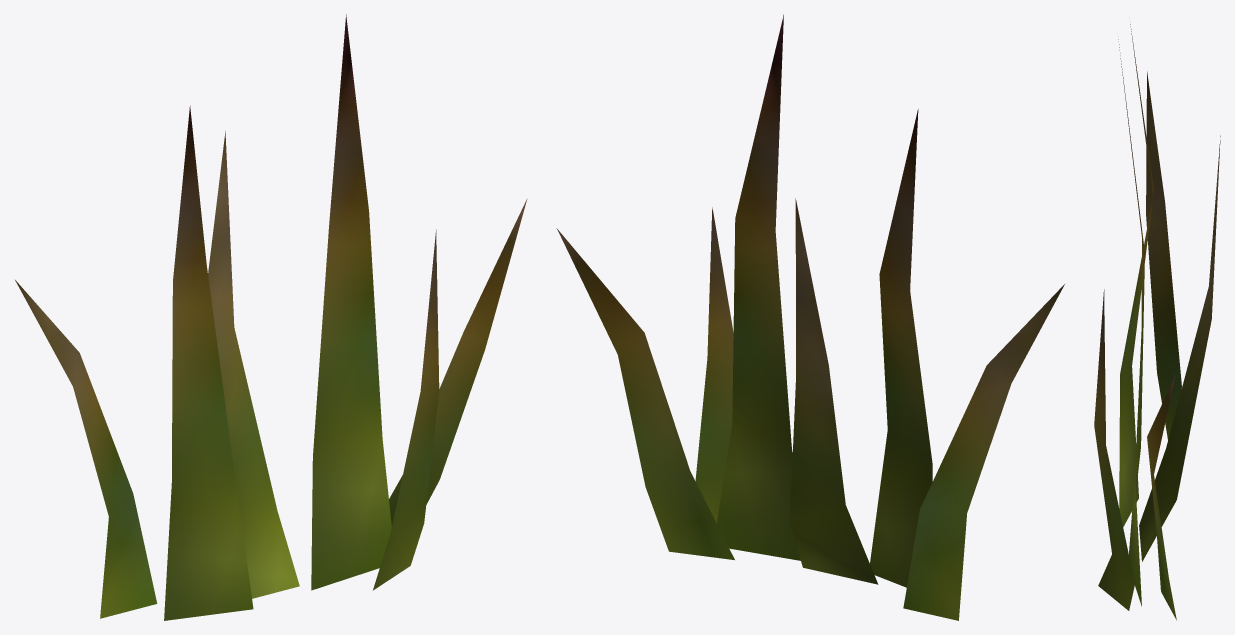
The model's file is Grass6.fbx.
3 renders of one model, left to right at view 1: azimuth 30°, elevation 25°; view 2: azimuth 150°, elevation 25°; view 3: azimuth 270°, elevation 25°, orthographic. The views are drawn at different scales.
Visible parts, largest first — view 1: Grass6; view 2: Grass6; view 3: Grass6.
Boxes of the visible parts, x1,y1,x2,y2 form: Grass6: (15,14,527,620); Grass6: (556,14,1064,620); Grass6: (1094,24,1220,620).
Size of the model in its own units: 58.73 by 60.9 by 12.7.
